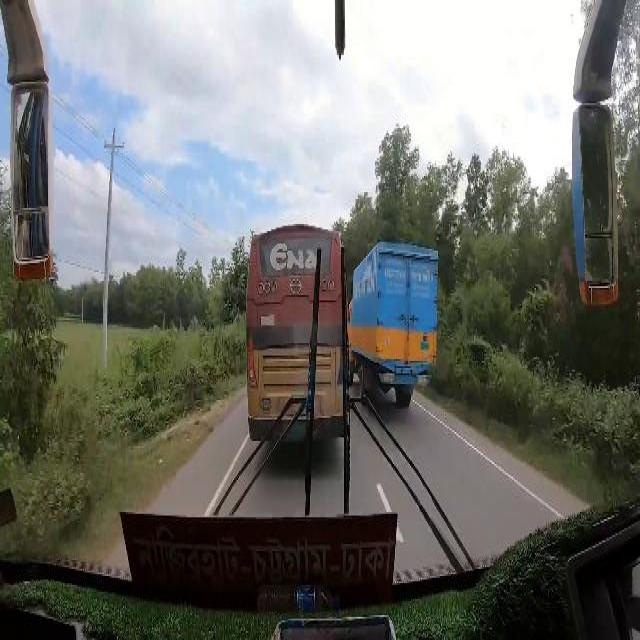vehicle: (247, 225, 347, 438), (348, 242, 439, 407)
